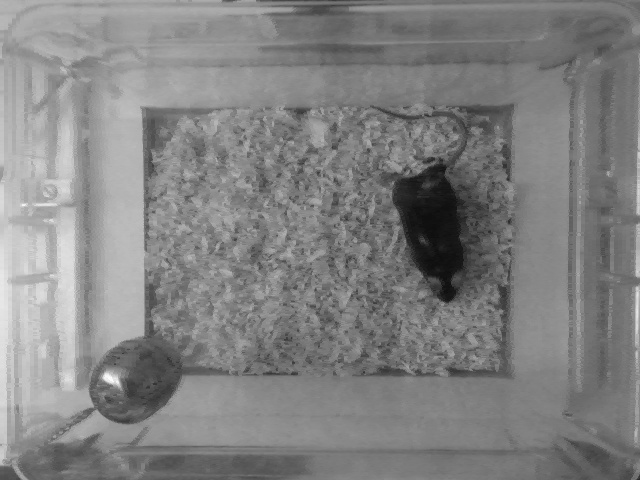mice: (357, 99, 474, 307)
